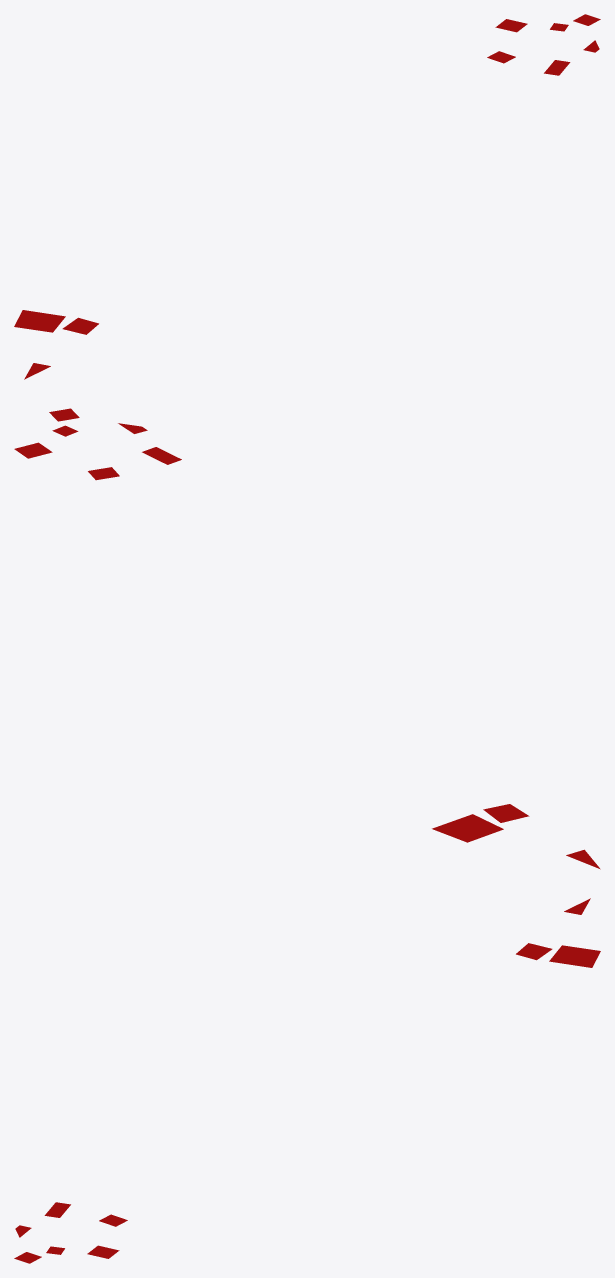
The picture shows the model from 3 angles, top to bottom: view 1: azimuth 90°, elevation 25°; view 2: azimuth 150°, elevation 25°; view 3: azimuth 270°, elevation 25°; orthographic projection. The views are drawn at different scales.
Bounding box in the file's own units: 327 × 0 × 222.
